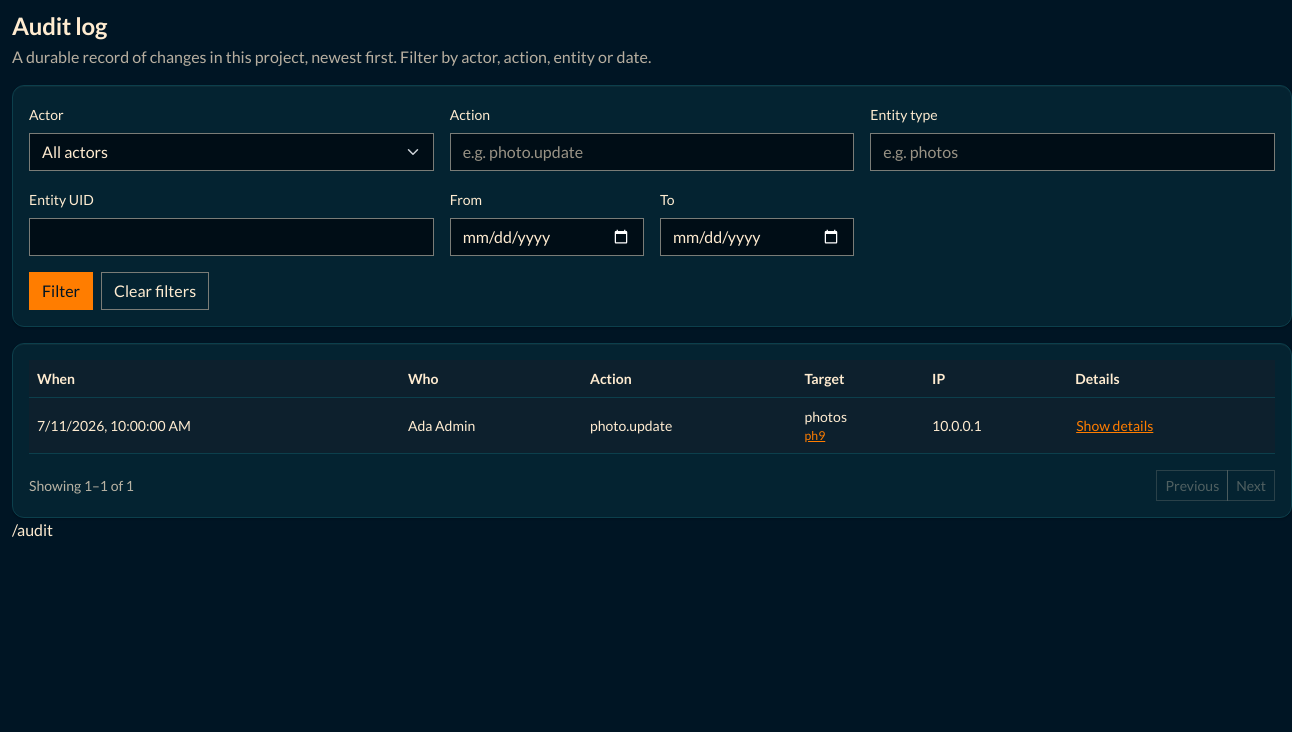
Scenario: AuditPage › filters by actor through the roster select
Select "Ada Admin" in the dropdown labelled "Actor" at point(231, 152), box x1=29 y1=133 x2=434 y2=171
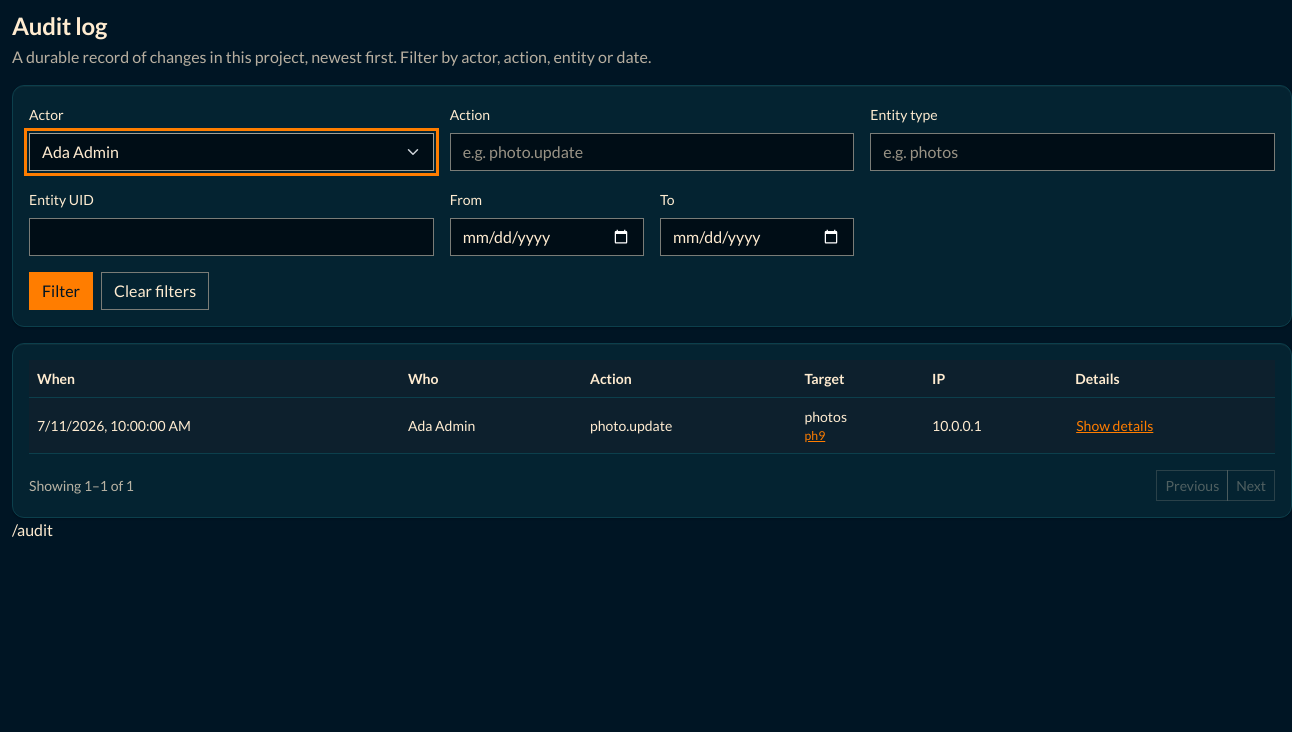
Click the button "Filter".
click(61, 291)  # box x1=29 y1=272 x2=93 y2=310
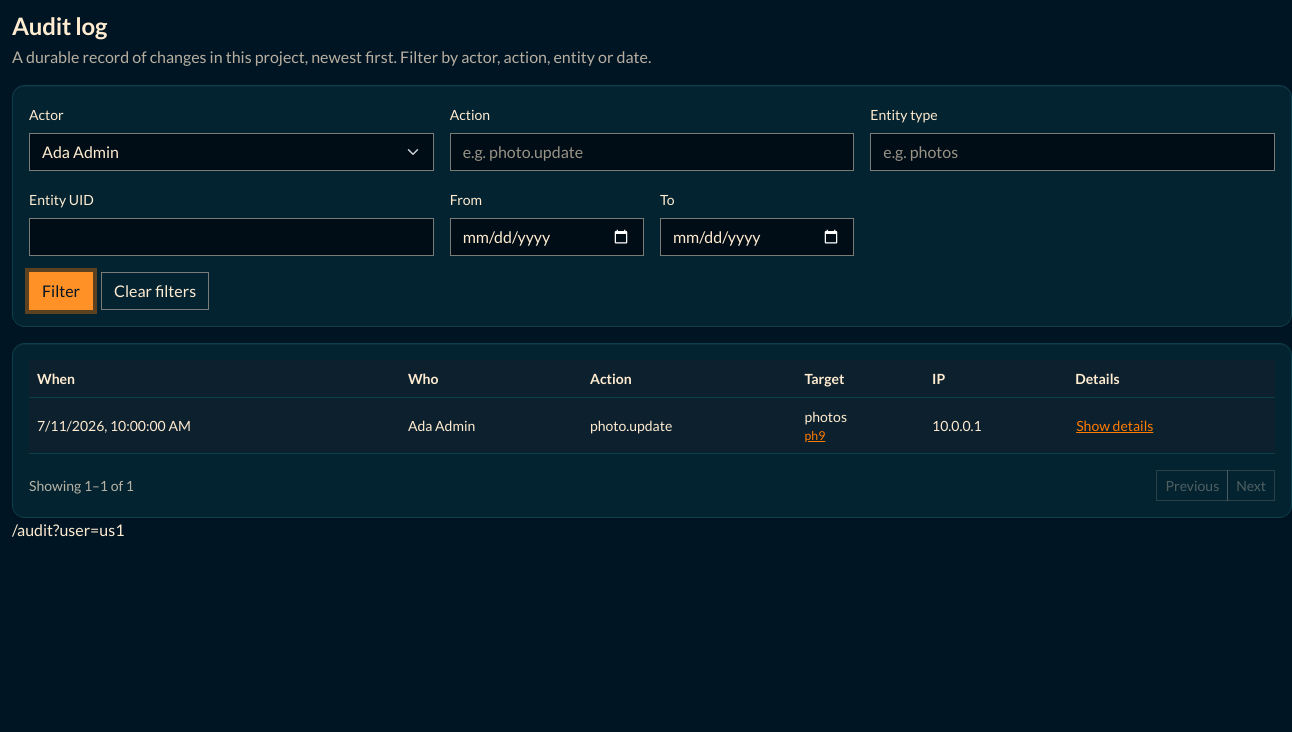
Expected: the text with test id "location" shows "user=us1", x1=12 y1=520 x2=124 y2=539
